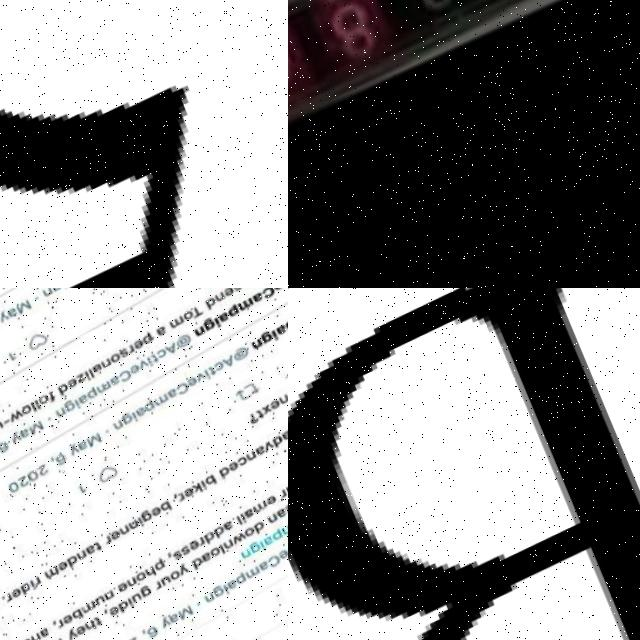0: (7, 482, 21, 497), (27, 471, 40, 486)
1: (78, 486, 88, 497), (8, 353, 18, 364)
2: (36, 465, 50, 481), (17, 476, 30, 490)
3: (406, 0, 469, 27)
5: (0, 0, 288, 288)
6: (288, 32, 305, 108), (55, 455, 68, 470), (0, 440, 11, 456), (146, 629, 159, 640)
8: (325, 0, 387, 73)
B: (288, 288, 640, 640)
